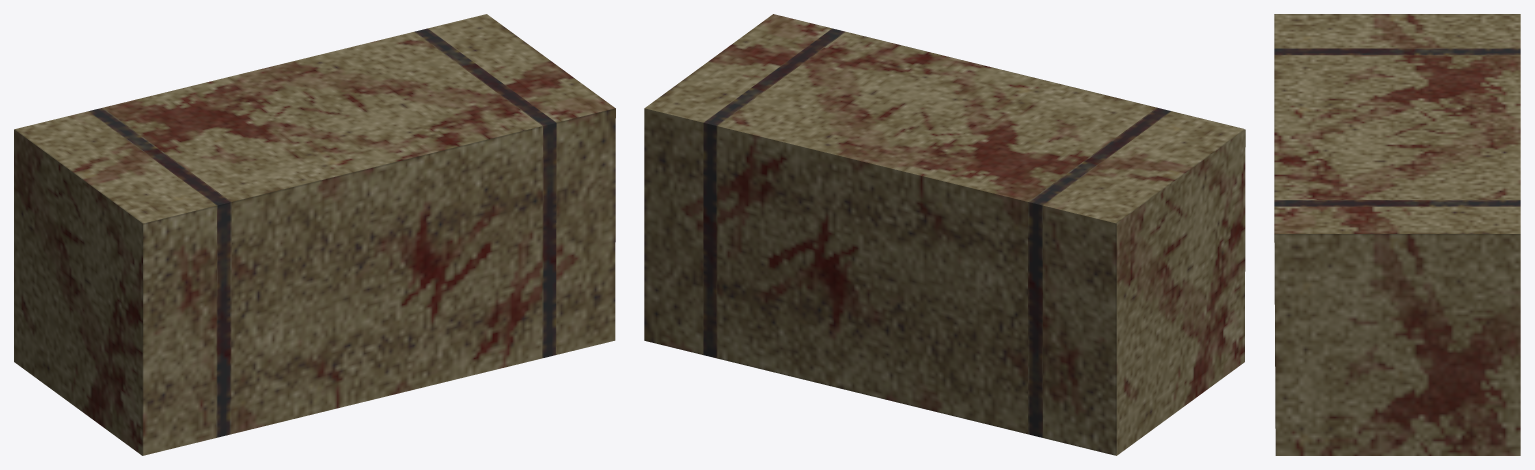
The model's file is SM_EC_Horror_Hay_1.fbx.
The picture shows the model from 3 angles, left to right: view 1: azimuth 30°, elevation 25°; view 2: azimuth 150°, elevation 25°; view 3: azimuth 270°, elevation 25°; orthographic projection. The views are drawn at different scales.
Visible parts, largest first — view 1: SM_EC_Horror_Hay_1; view 2: SM_EC_Horror_Hay_1; view 3: SM_EC_Horror_Hay_1.
Boxes of the visible parts, <box> form: SM_EC_Horror_Hay_1: <box>14,14,615,455</box>; SM_EC_Horror_Hay_1: <box>644,14,1245,455</box>; SM_EC_Horror_Hay_1: <box>1274,14,1520,455</box>.
Size of the model in its own units: 1.95 by 0.9209 by 0.9165.
